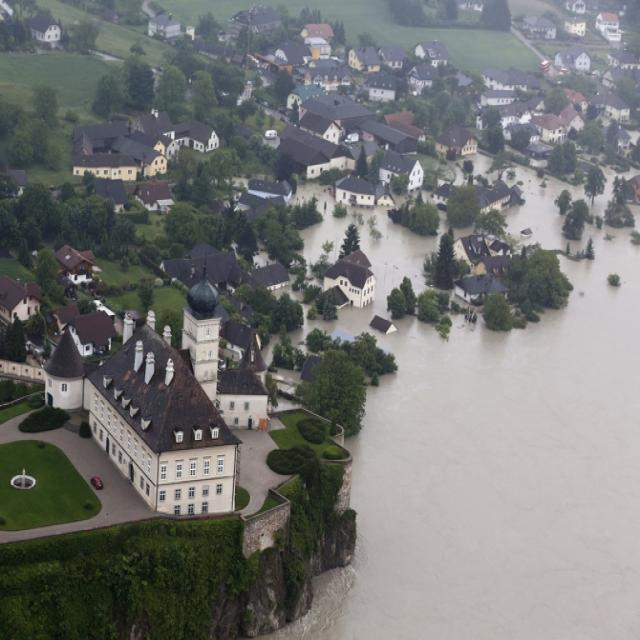flood: (315, 165, 640, 640), (294, 183, 439, 340), (594, 168, 618, 215), (473, 152, 494, 176), (632, 205, 640, 230)
house: (92, 327, 232, 518), (217, 330, 268, 430), (278, 125, 357, 180), (70, 120, 140, 177), (43, 327, 84, 411), (326, 251, 376, 311), (450, 273, 506, 320), (0, 274, 42, 326), (454, 232, 508, 272), (192, 244, 242, 284), (230, 5, 286, 40), (363, 120, 421, 152), (380, 152, 425, 193), (334, 174, 379, 214), (55, 244, 93, 287), (30, 10, 66, 48), (182, 118, 220, 153), (250, 260, 290, 292), (590, 8, 625, 44), (476, 180, 514, 212), (532, 112, 566, 147), (414, 40, 452, 68), (246, 177, 294, 199), (367, 73, 401, 103), (522, 15, 558, 43), (136, 182, 172, 210), (288, 84, 318, 116), (348, 44, 380, 72), (303, 22, 334, 50), (308, 66, 344, 90), (408, 66, 439, 93), (481, 86, 514, 111), (450, 128, 479, 156), (604, 92, 632, 121), (151, 11, 181, 36), (144, 150, 170, 178), (564, 15, 588, 40), (382, 46, 406, 70), (562, 106, 584, 131), (571, 49, 593, 72)
